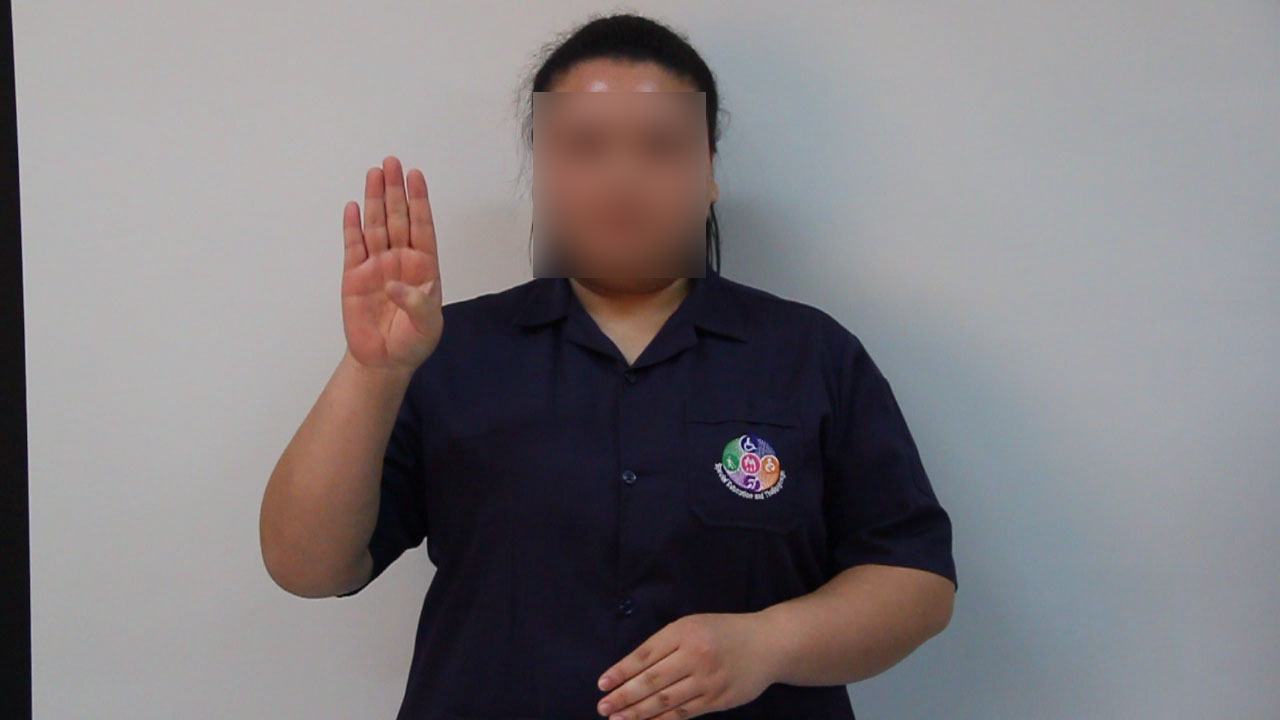bor: (320, 140, 461, 408)
